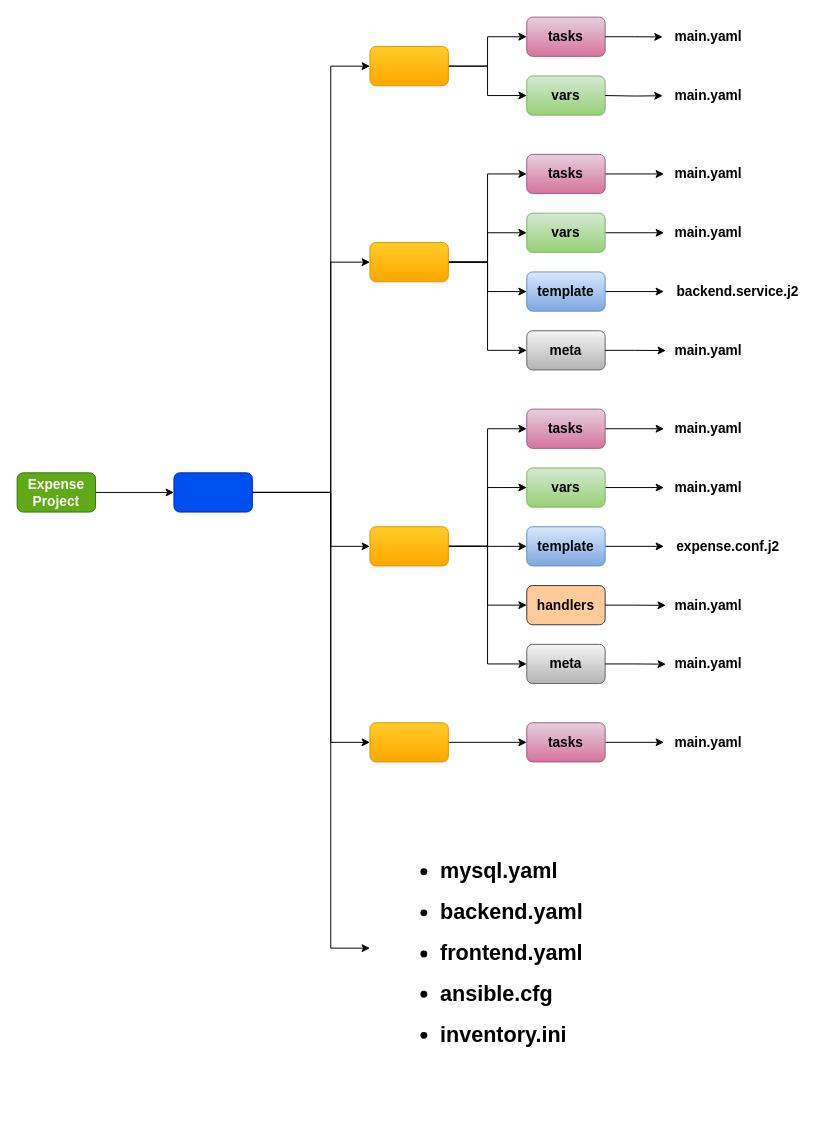
Some shapes in this 828 by 1122 pixel diagram are drawn without their labels. Here are the shapes that lost their labels. From the top down, the centre of each, then its label:
At [408,66]: "mysql".
At [408,262]: "backend".
At [212,492]: "roles".
At [408,546]: "frontend".
At [408,742]: "common".
